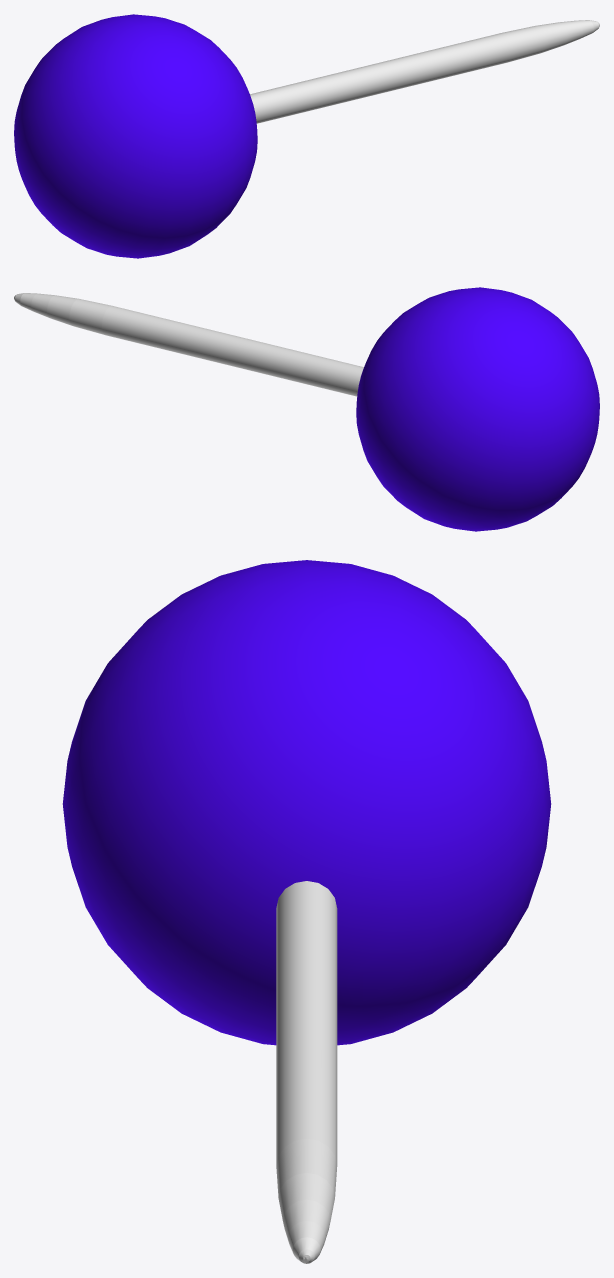
The picture shows the model from 3 angles, top to bottom: view 1: azimuth 30°, elevation 25°; view 2: azimuth 150°, elevation 25°; view 3: azimuth 270°, elevation 25°; orthographic projection. The views are drawn at different scales.
Visible parts, largest first — view 1: Line004; view 2: Line004; view 3: Line004.
Boxes of the visible parts, <box> form: Line004: <box>14,14,599,258</box>; Line004: <box>14,287,599,531</box>; Line004: <box>62,560,551,1263</box>.
Size of the model in its own units: 0.0274 by 0.0102 by 0.0102.
